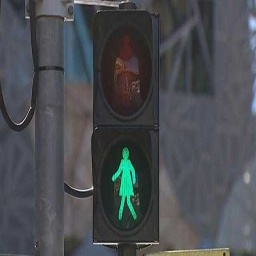traffic light: (93, 10, 160, 244)
